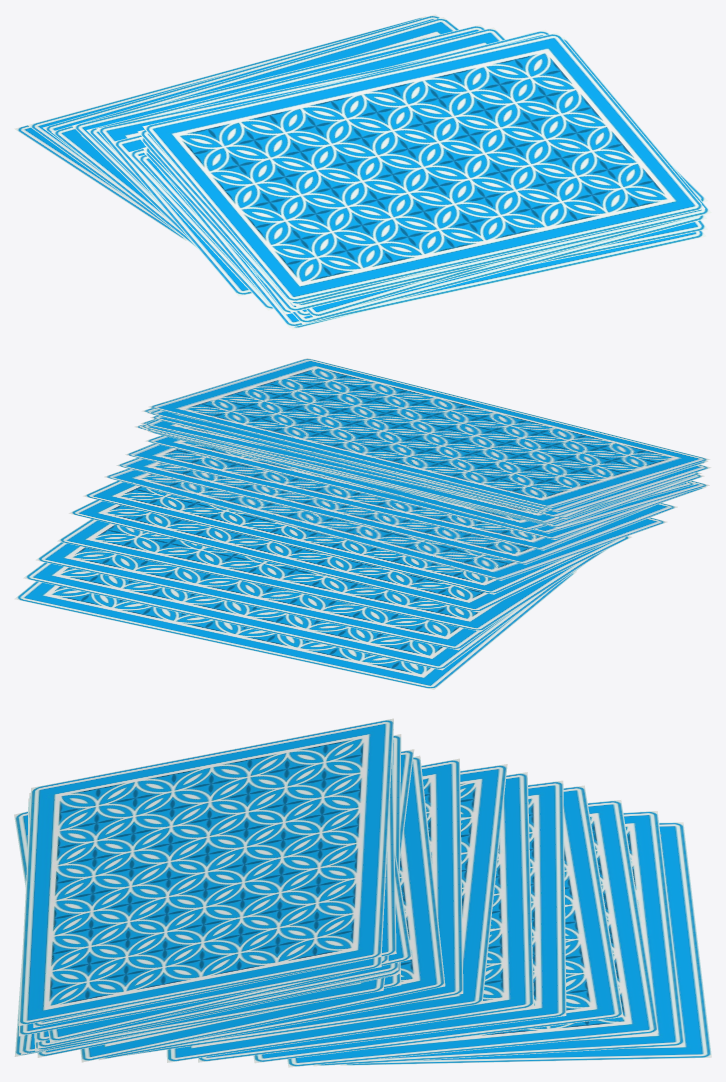
3 views of the same model, one above another, from view 1: azimuth 30°, elevation 25°; view 2: azimuth 150°, elevation 25°; view 3: azimuth 270°, elevation 25° (orthographic). The views are drawn at different scales.
Parts seen in each view (by area): view 1: Cards; view 2: Cards; view 3: Cards.
Boxes of the visible parts, <box> form: Cards: <box>14,14,711,329</box>; Cards: <box>14,358,711,689</box>; Cards: <box>14,718,711,1067</box>.
Bounding box in the file's own units: 1.59 × 0.3241 × 1.88.
Materials: 1 (1 with a texture image).
